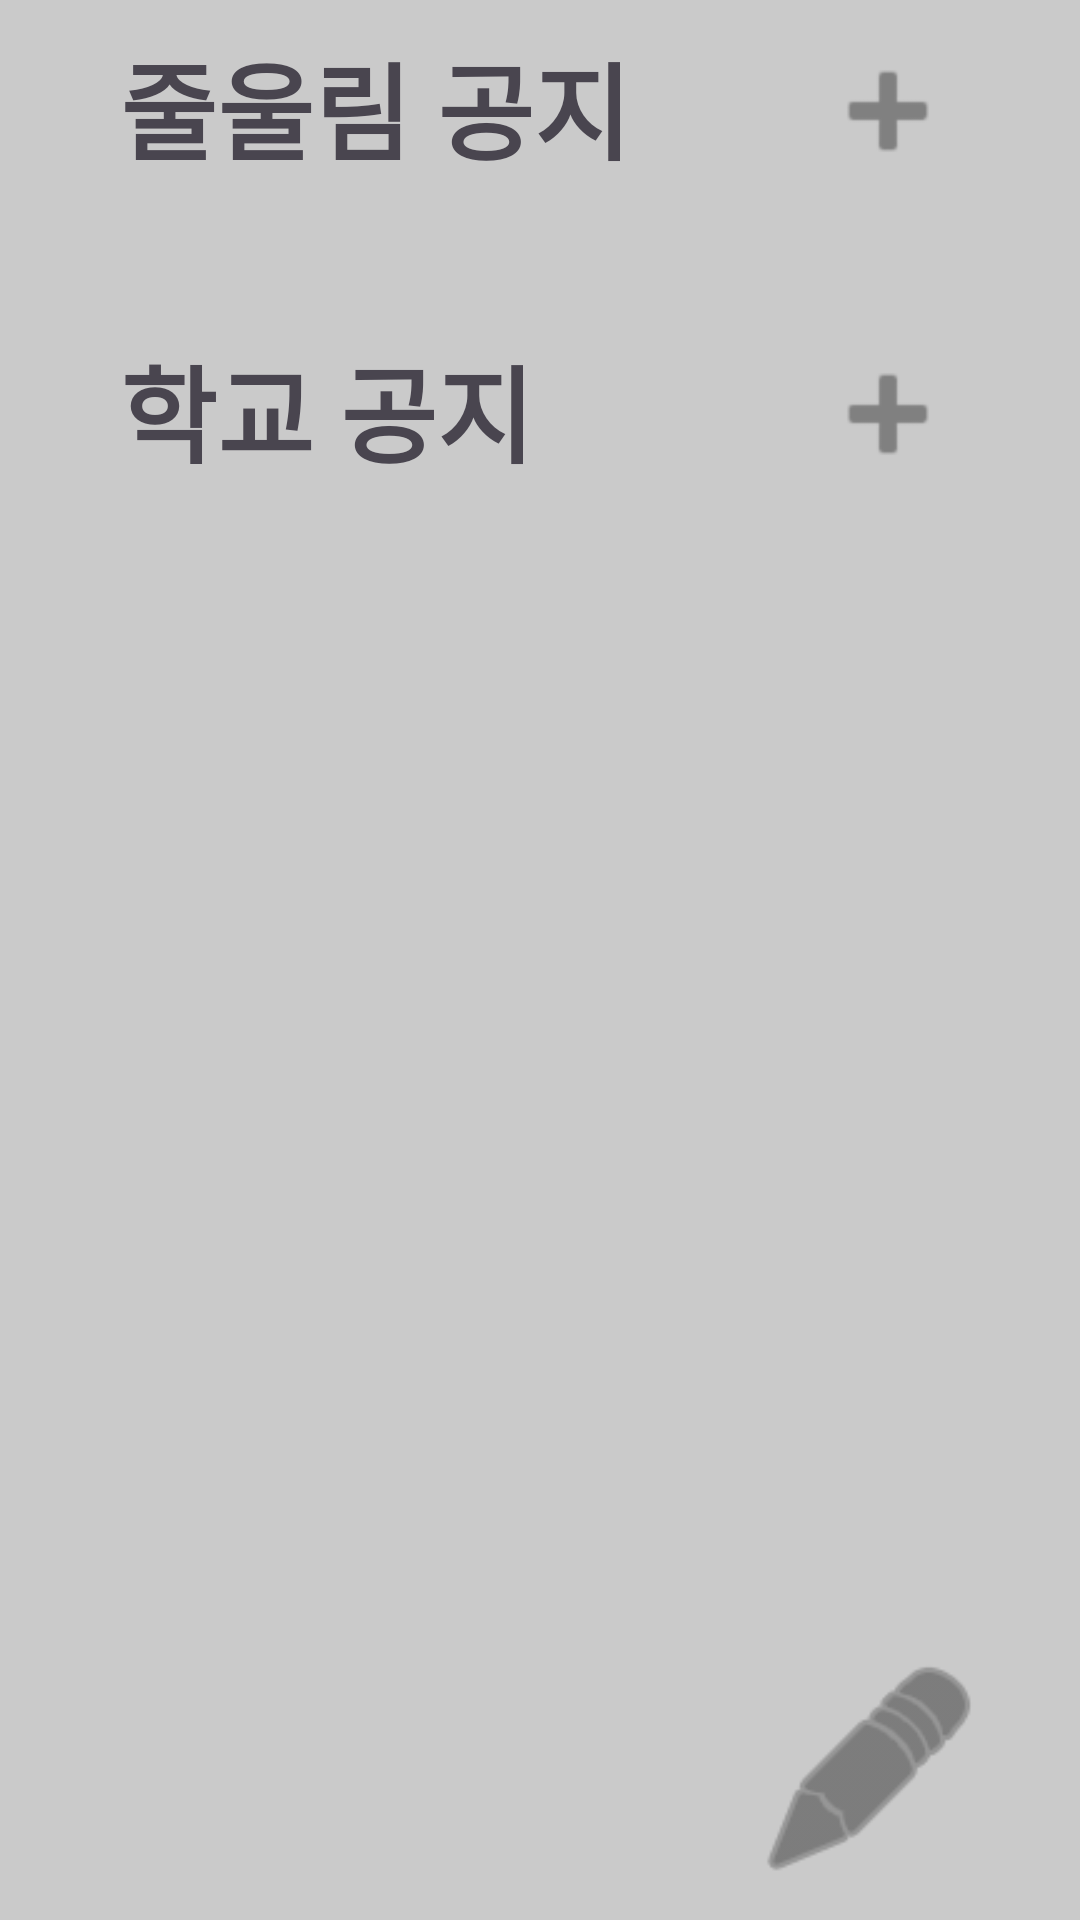

Icon bounding boxes for this 1080px×1920px phone screenshot, format (x1, y1, x2, y2):
add: (848, 72, 928, 151), (848, 374, 928, 453)
edit: (768, 1667, 970, 1869)
